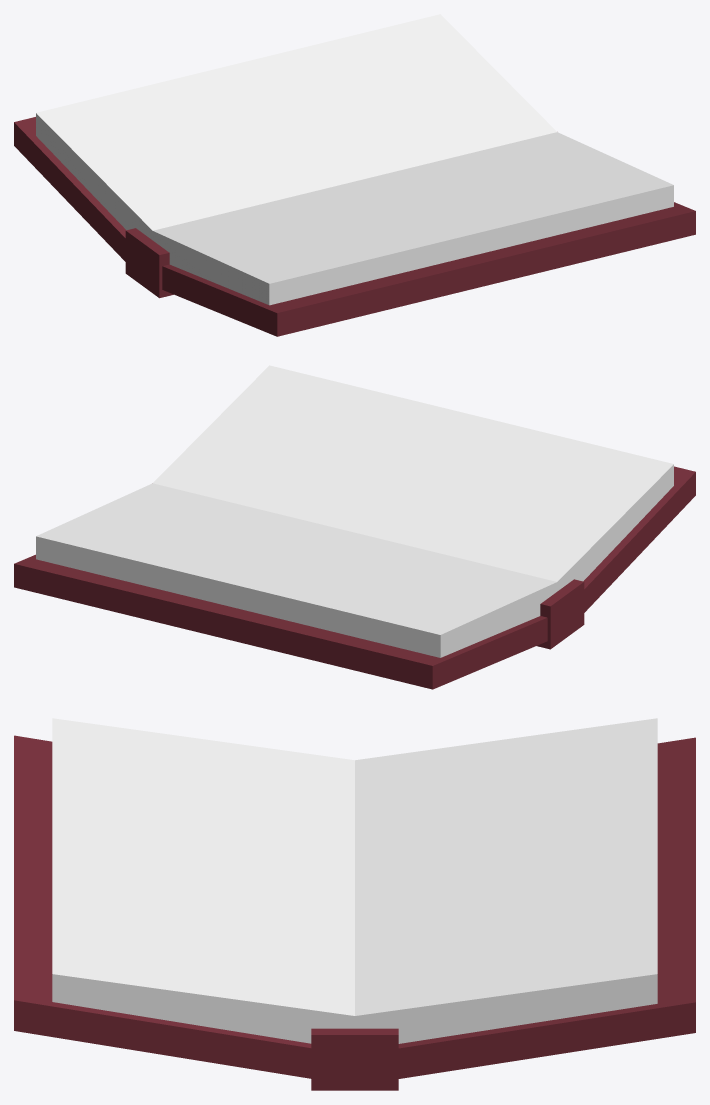
Rendered from bookred.fbx.
3 renders of one model, top to bottom at view 1: azimuth 30°, elevation 25°; view 2: azimuth 150°, elevation 25°; view 3: azimuth 270°, elevation 25°, orthographic. The views are drawn at different scales.
Visible parts, largest first — view 1: Cube, Cube.002, Cube.001; view 2: Cube, Cube.002, Cube.001; view 3: Cube, Cube.002, Cube.001.
Boxes of the visible parts, bbox=[...] form: Cube: bbox=[36, 14, 673, 305]; Cube.002: bbox=[14, 117, 695, 336]; Cube.001: bbox=[125, 228, 173, 298]; Cube: bbox=[36, 365, 673, 657]; Cube.002: bbox=[14, 466, 695, 689]; Cube.001: bbox=[537, 579, 584, 649]; Cube: bbox=[52, 718, 657, 1043]; Cube.002: bbox=[14, 735, 695, 1078]; Cube.001: bbox=[311, 1028, 398, 1090].
Bounding box in the file's own units: 382 × 73.22 × 410.
